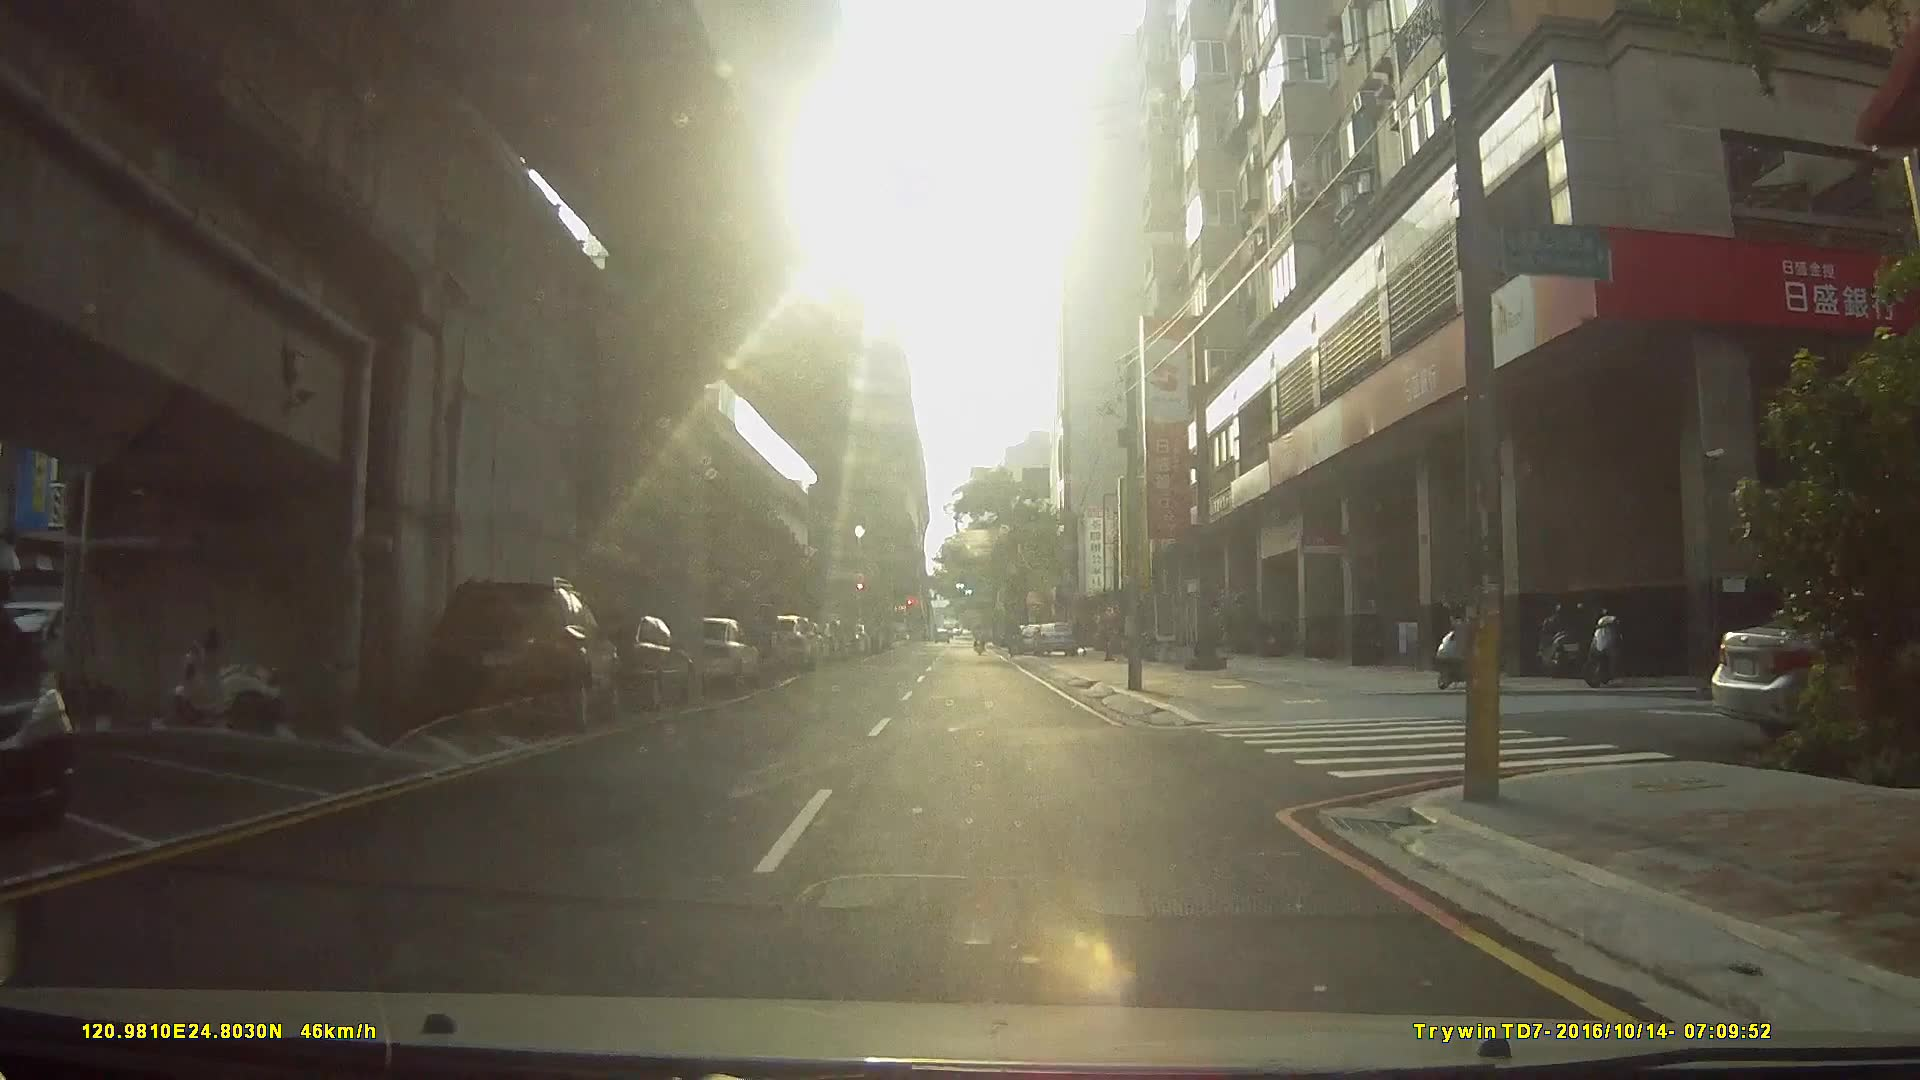vehicle: (423, 576, 620, 735), (0, 593, 76, 831), (541, 612, 694, 716), (669, 612, 760, 694), (659, 620, 794, 670), (1029, 618, 1077, 655)
